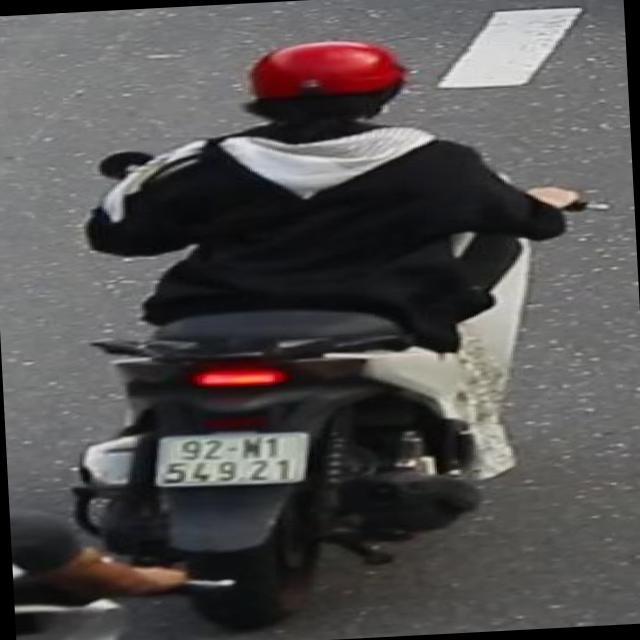LP: (148, 424, 318, 498)
helmet: (235, 33, 418, 138)
